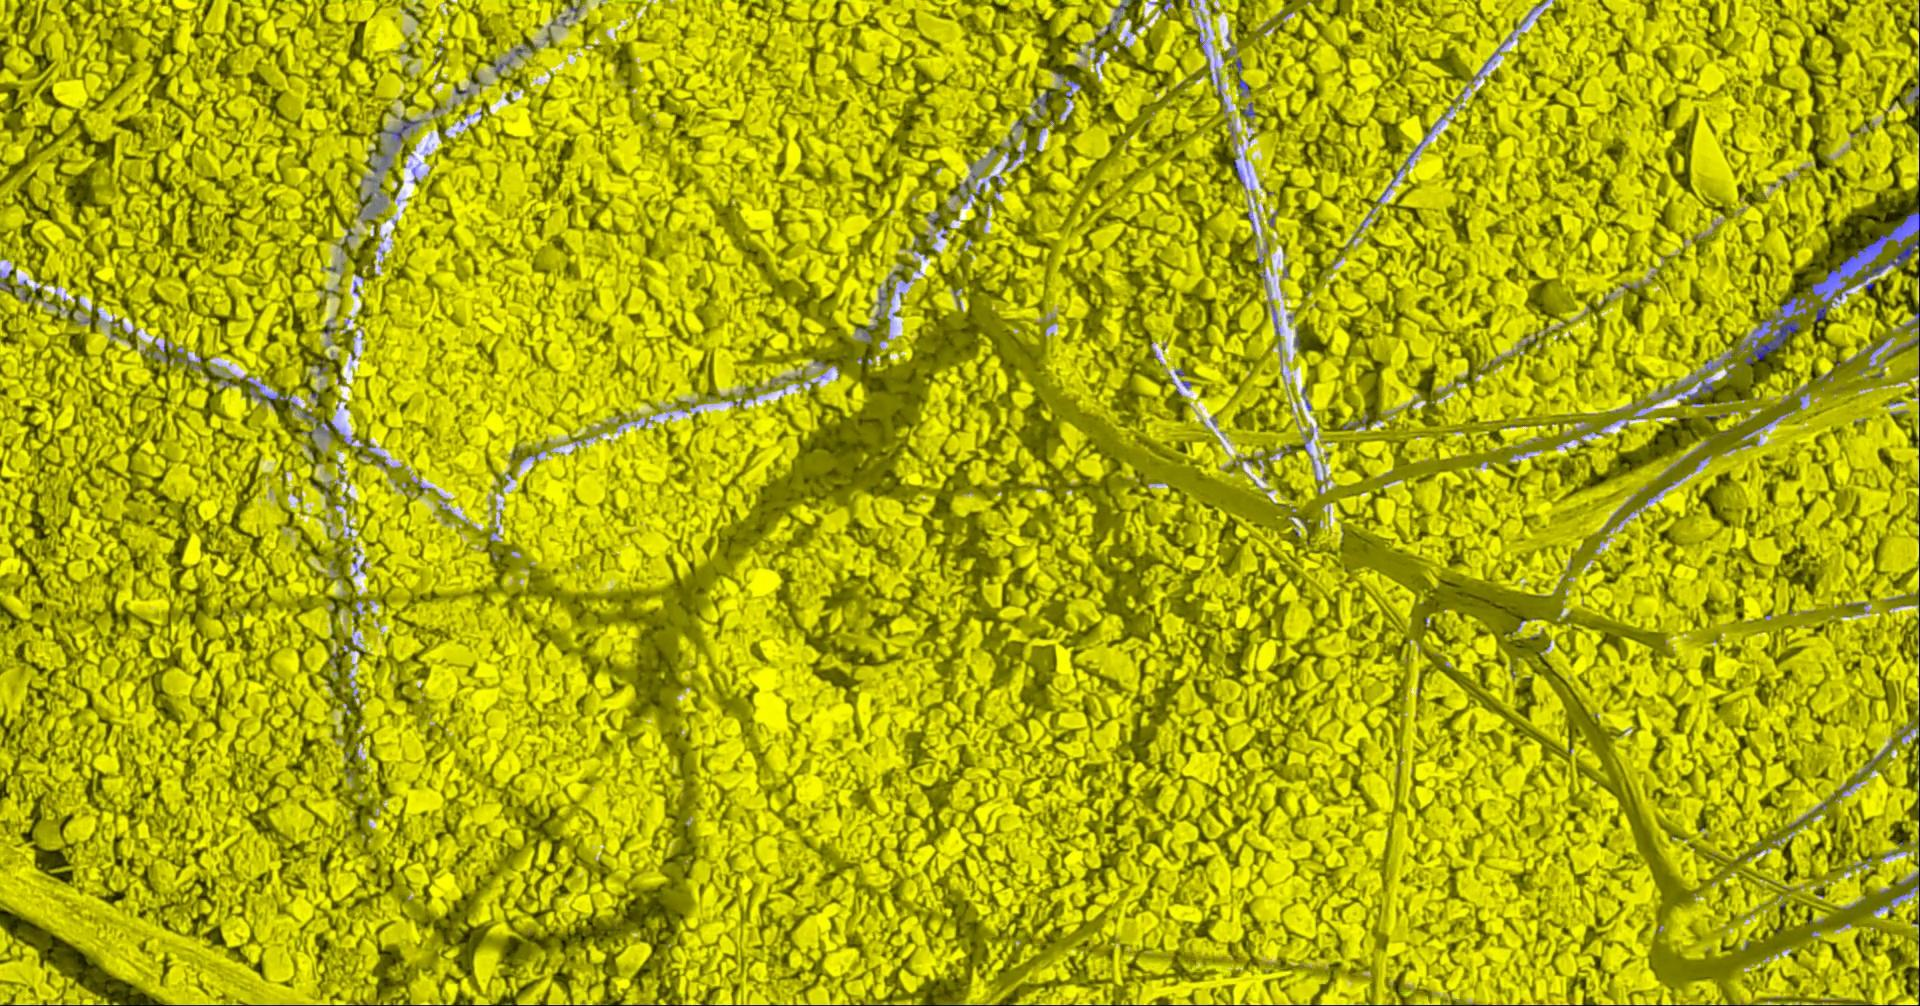ant: (1823, 210, 1919, 282), (1745, 319, 1797, 365), (1860, 263, 1887, 290), (389, 119, 418, 138), (1813, 304, 1826, 323)
